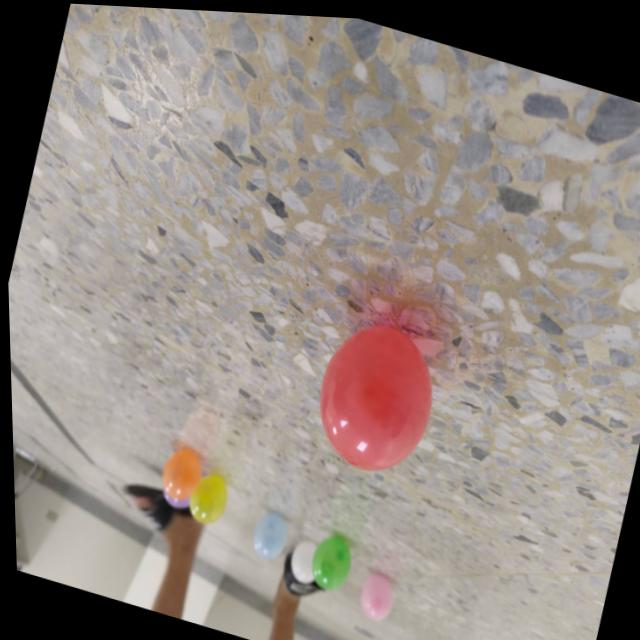other: (304, 527, 355, 594), (181, 463, 231, 528), (153, 441, 202, 501), (350, 565, 395, 623), (244, 504, 289, 562), (282, 531, 320, 583)
red: (299, 306, 447, 483)
